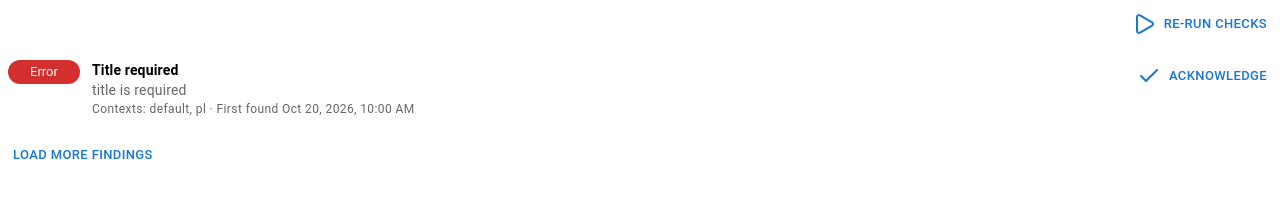
Test: RecordFindingsPanel › loads further pages of findings on request
The image size is (1280, 218).
Expected: the text "title is required" is shown, [92,82,187,98]
Click the button "Load more findings": (83, 155) [8,140,158,171]
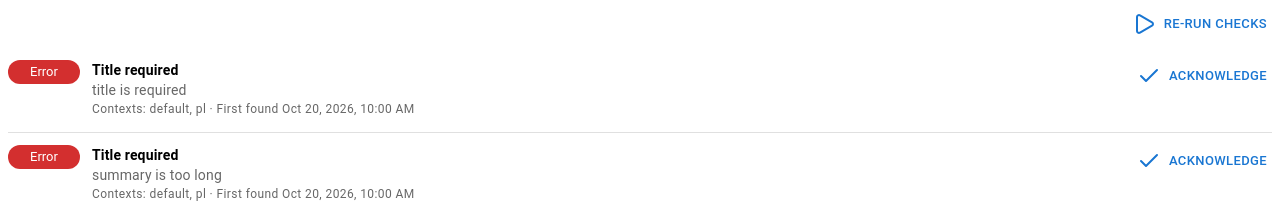
Expected: the text "summary is too long" is shown, [92,167,222,183]
Expected: the button "Load more findings" is gone
